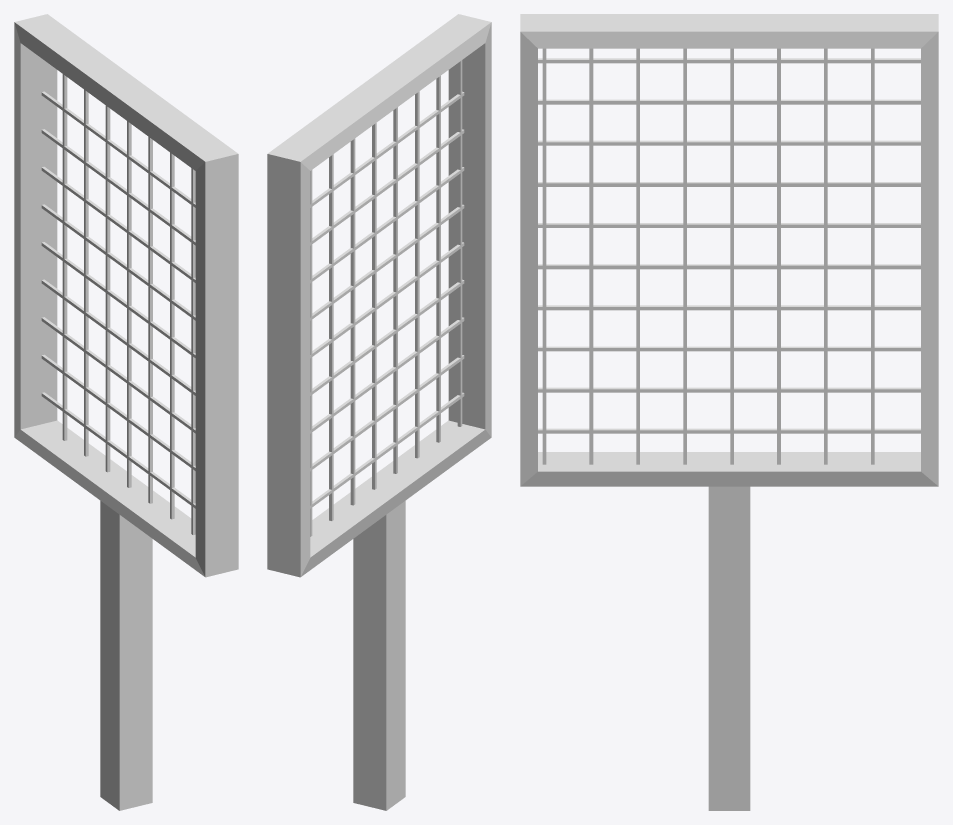
Rendered from Racket.obj.
The picture shows the model from 3 angles, left to right: view 1: azimuth 30°, elevation 25°; view 2: azimuth 150°, elevation 25°; view 3: azimuth 270°, elevation 25°; orthographic projection. The views are drawn at different scales.
Visible parts, largest first — view 1: Racket; view 2: Racket; view 3: Racket.
Part boxes in pixels (<box>): Racket: <box>14,14,238,810</box>; Racket: <box>267,14,491,810</box>; Racket: <box>520,14,938,810</box>.
Size of the model in its own units: 0.1872 by 3.45 by 1.68.
